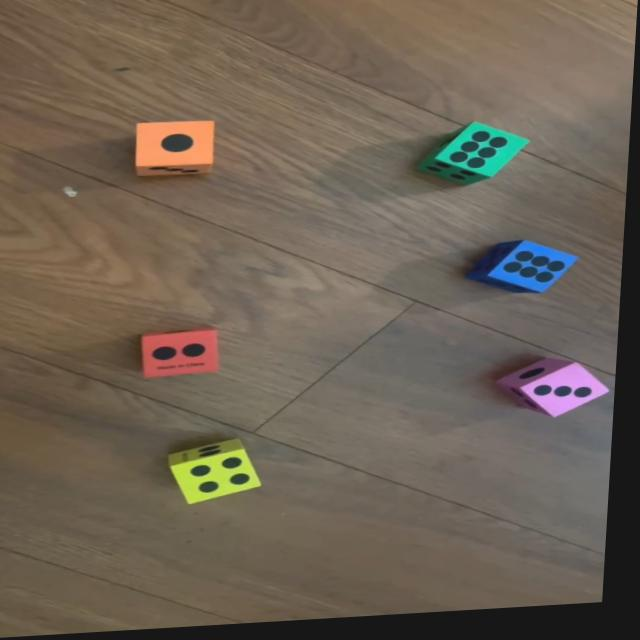cube: (420, 127, 534, 194), (474, 243, 586, 304), (139, 328, 226, 380)
